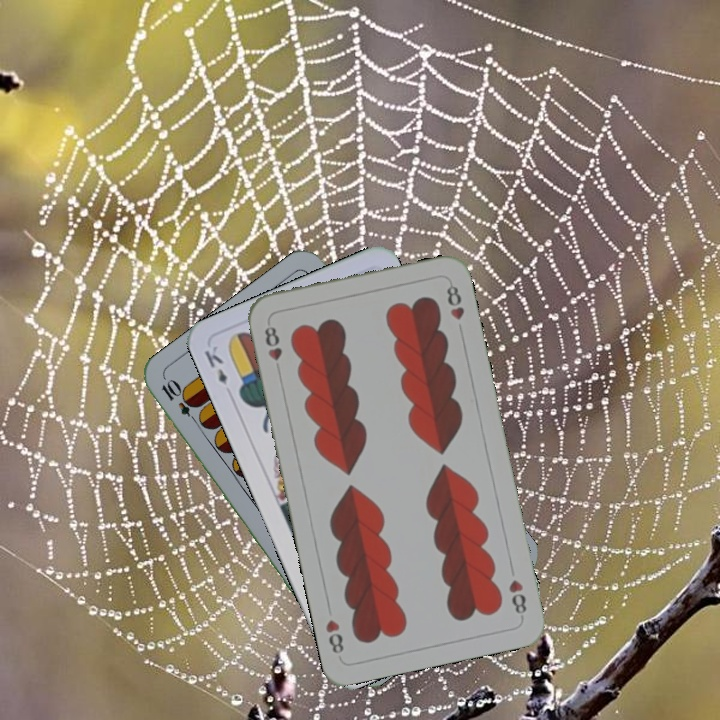E10: (157, 376, 203, 428)
EK: (200, 341, 230, 388)
H8: (504, 575, 529, 621), (260, 322, 285, 363)
